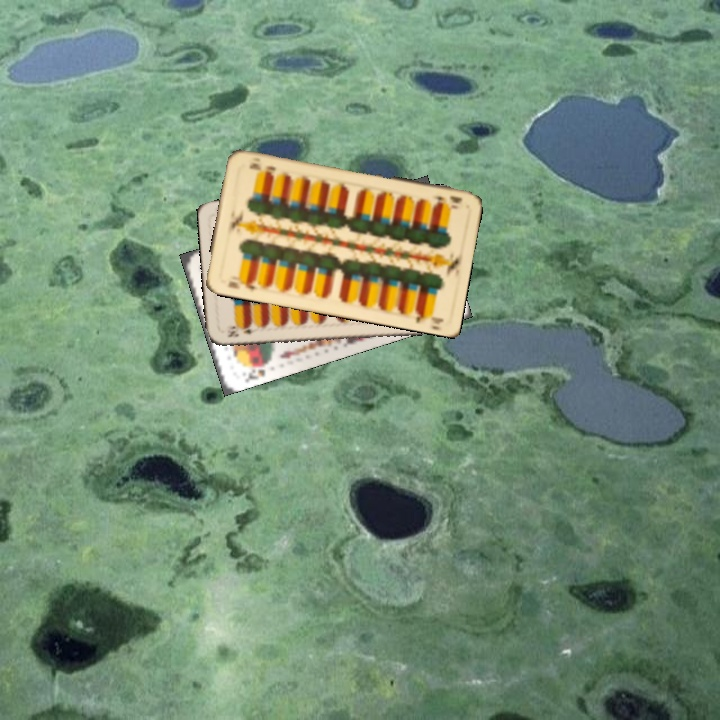E10: (428, 192, 465, 211), (223, 322, 261, 340), (223, 276, 259, 293)
SK: (240, 357, 272, 384)
